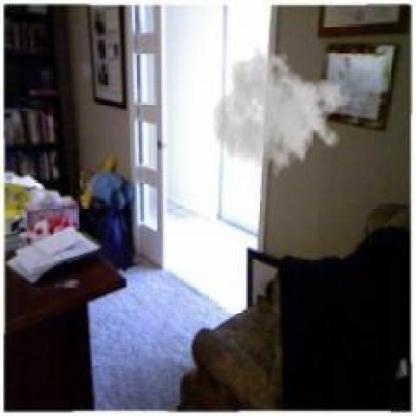Smoke: (211, 46, 345, 186)
